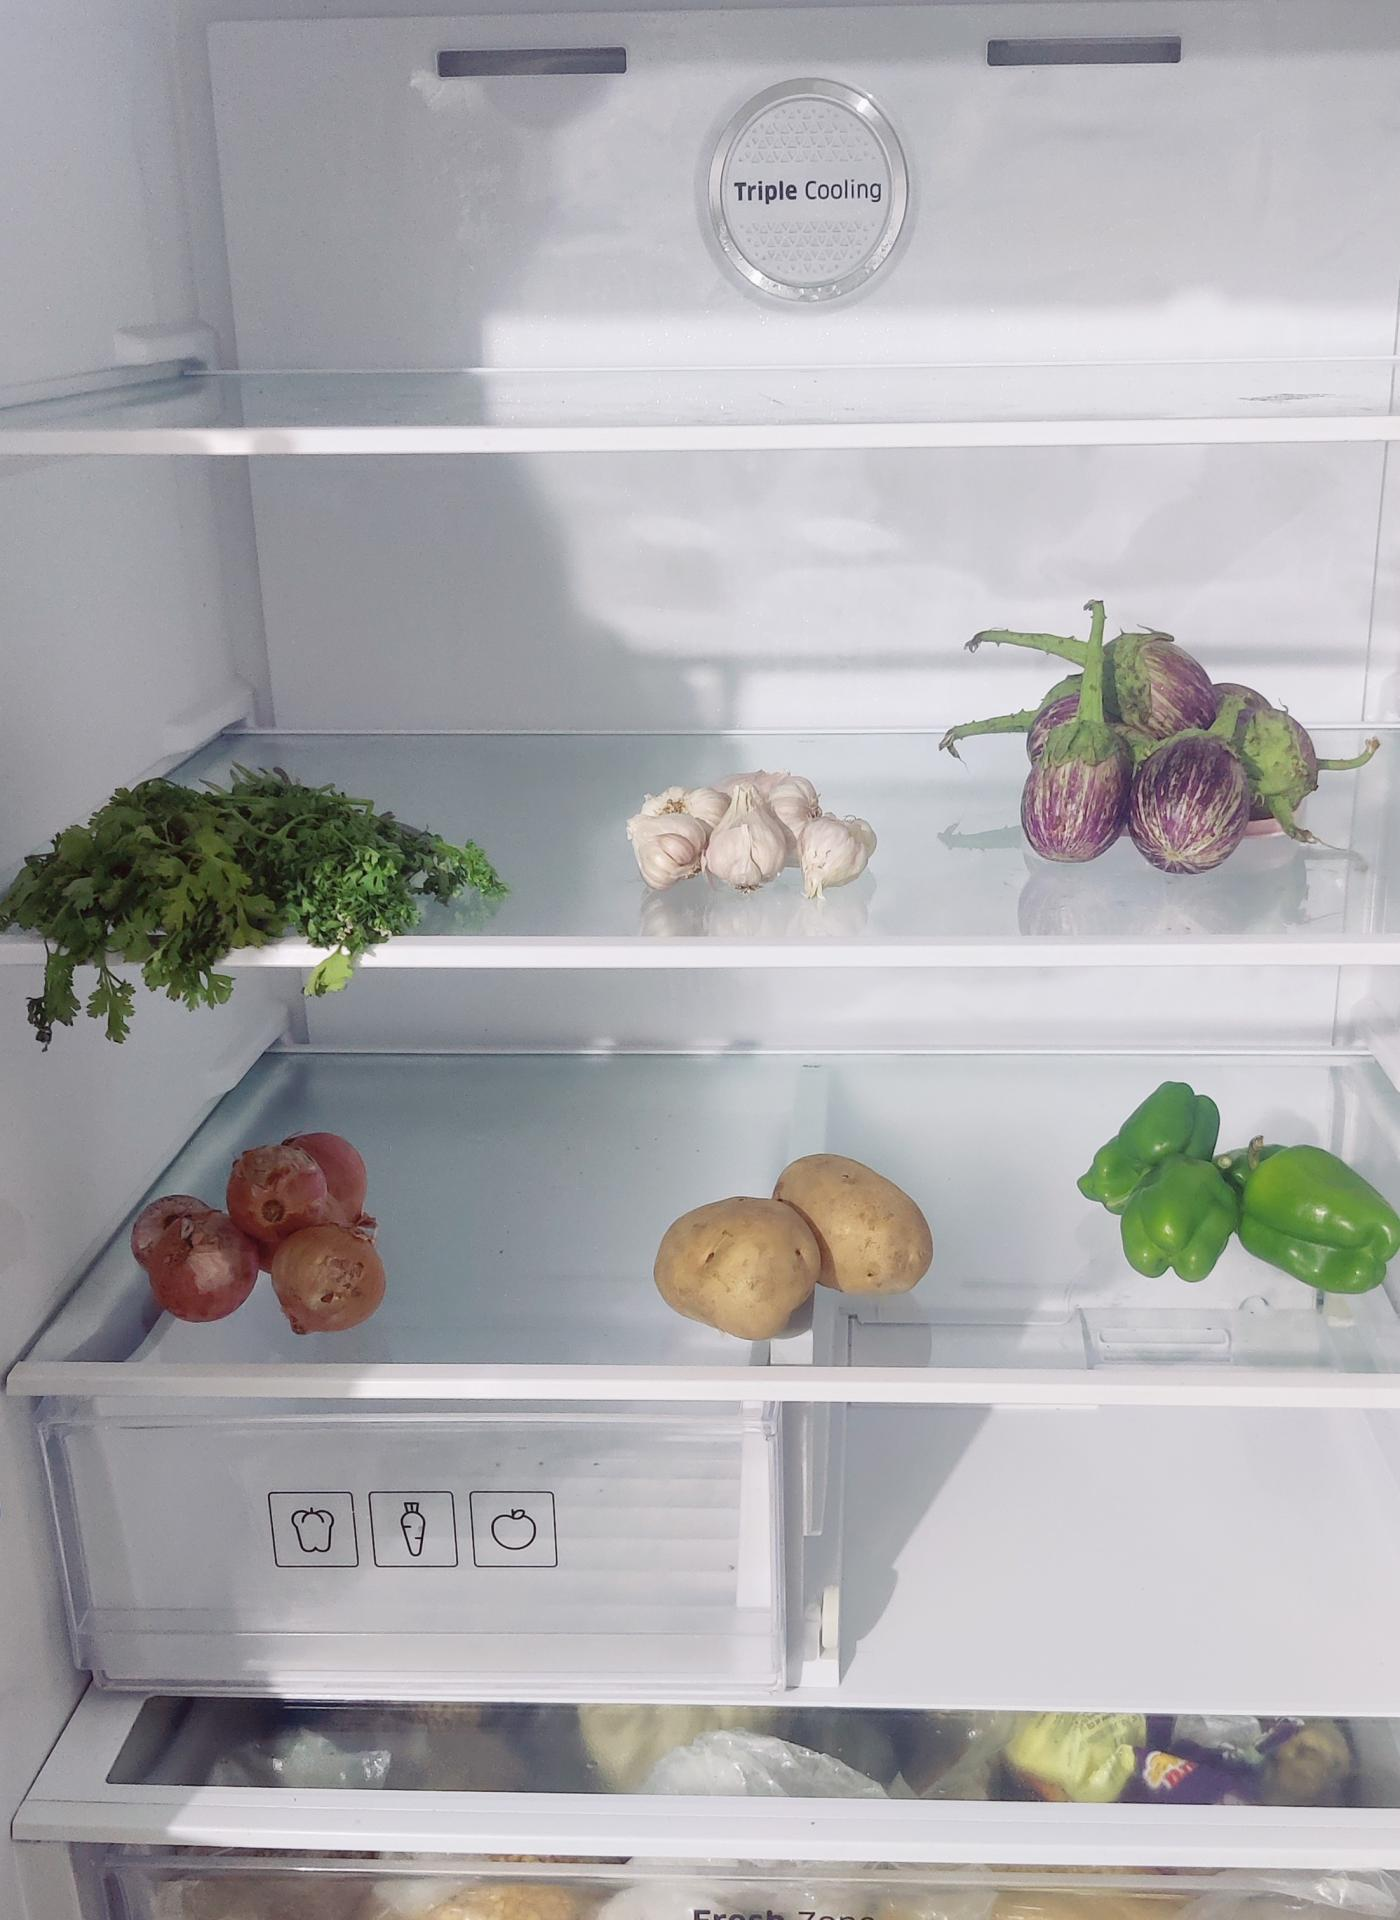brinjal: (1026, 622, 1324, 866)
capsicum: (1082, 1087, 1400, 1301)
coriander: (9, 772, 489, 970)
garlic: (634, 766, 884, 899)
onion: (136, 1112, 392, 1315)
potato: (653, 1154, 936, 1339)
